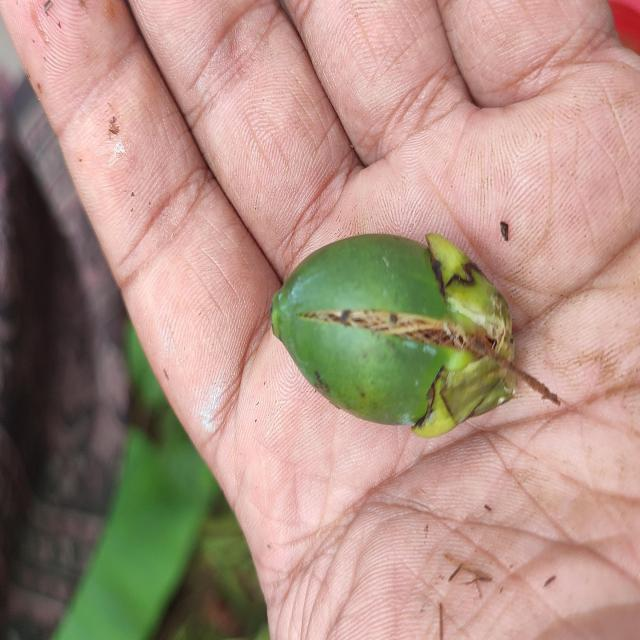damaged: (267, 231, 524, 440)
